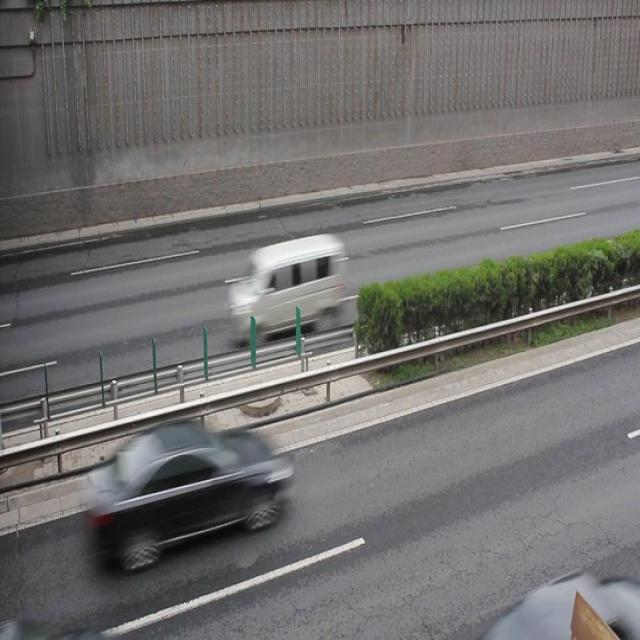car: (97, 420, 285, 571)
truck: (226, 231, 342, 343)
